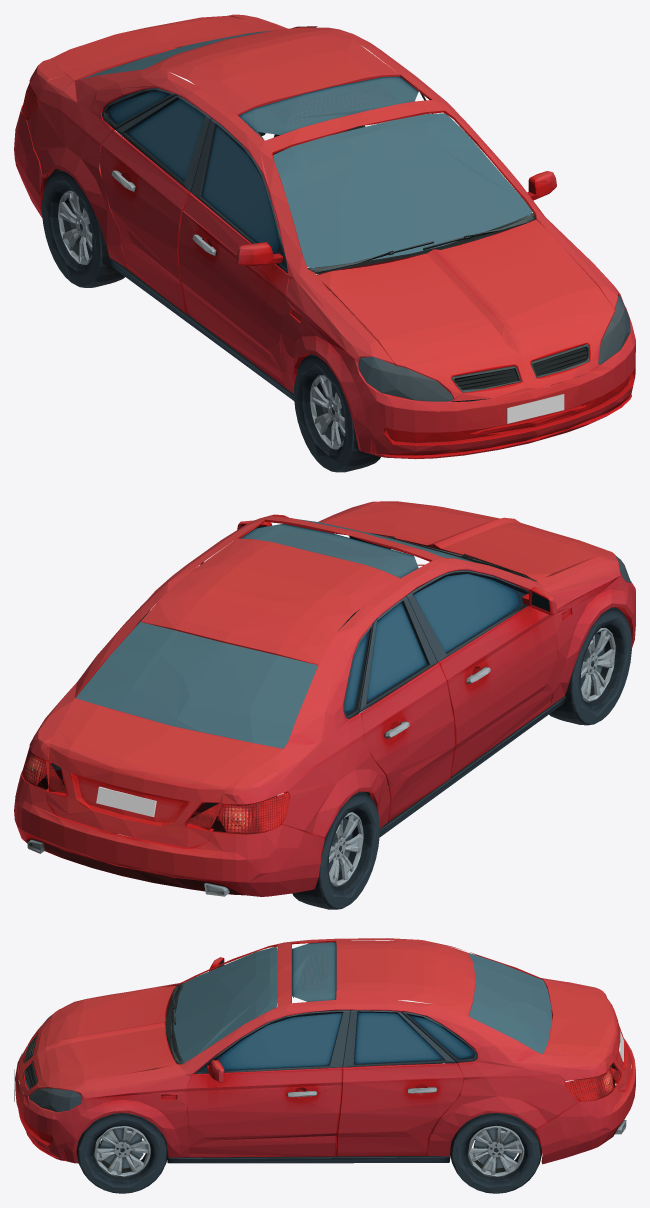
File: sedan.glb
The picture shows the model from 3 angles, top to bottom: view 1: azimuth 30°, elevation 25°; view 2: azimuth 150°, elevation 25°; view 3: azimuth 270°, elevation 25°; orthographic projection. The views are drawn at different scales.
Size of the model in its own units: 0.4389 by 0.3184 by 1.
2 materials, 2 textured.
